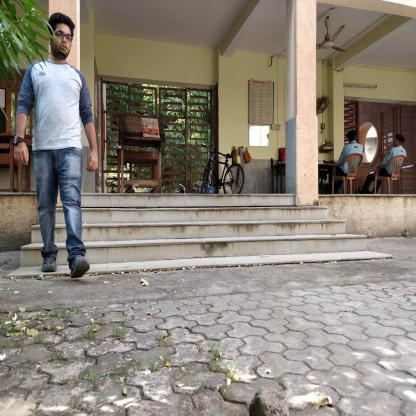stairs: (97, 193, 294, 267)
